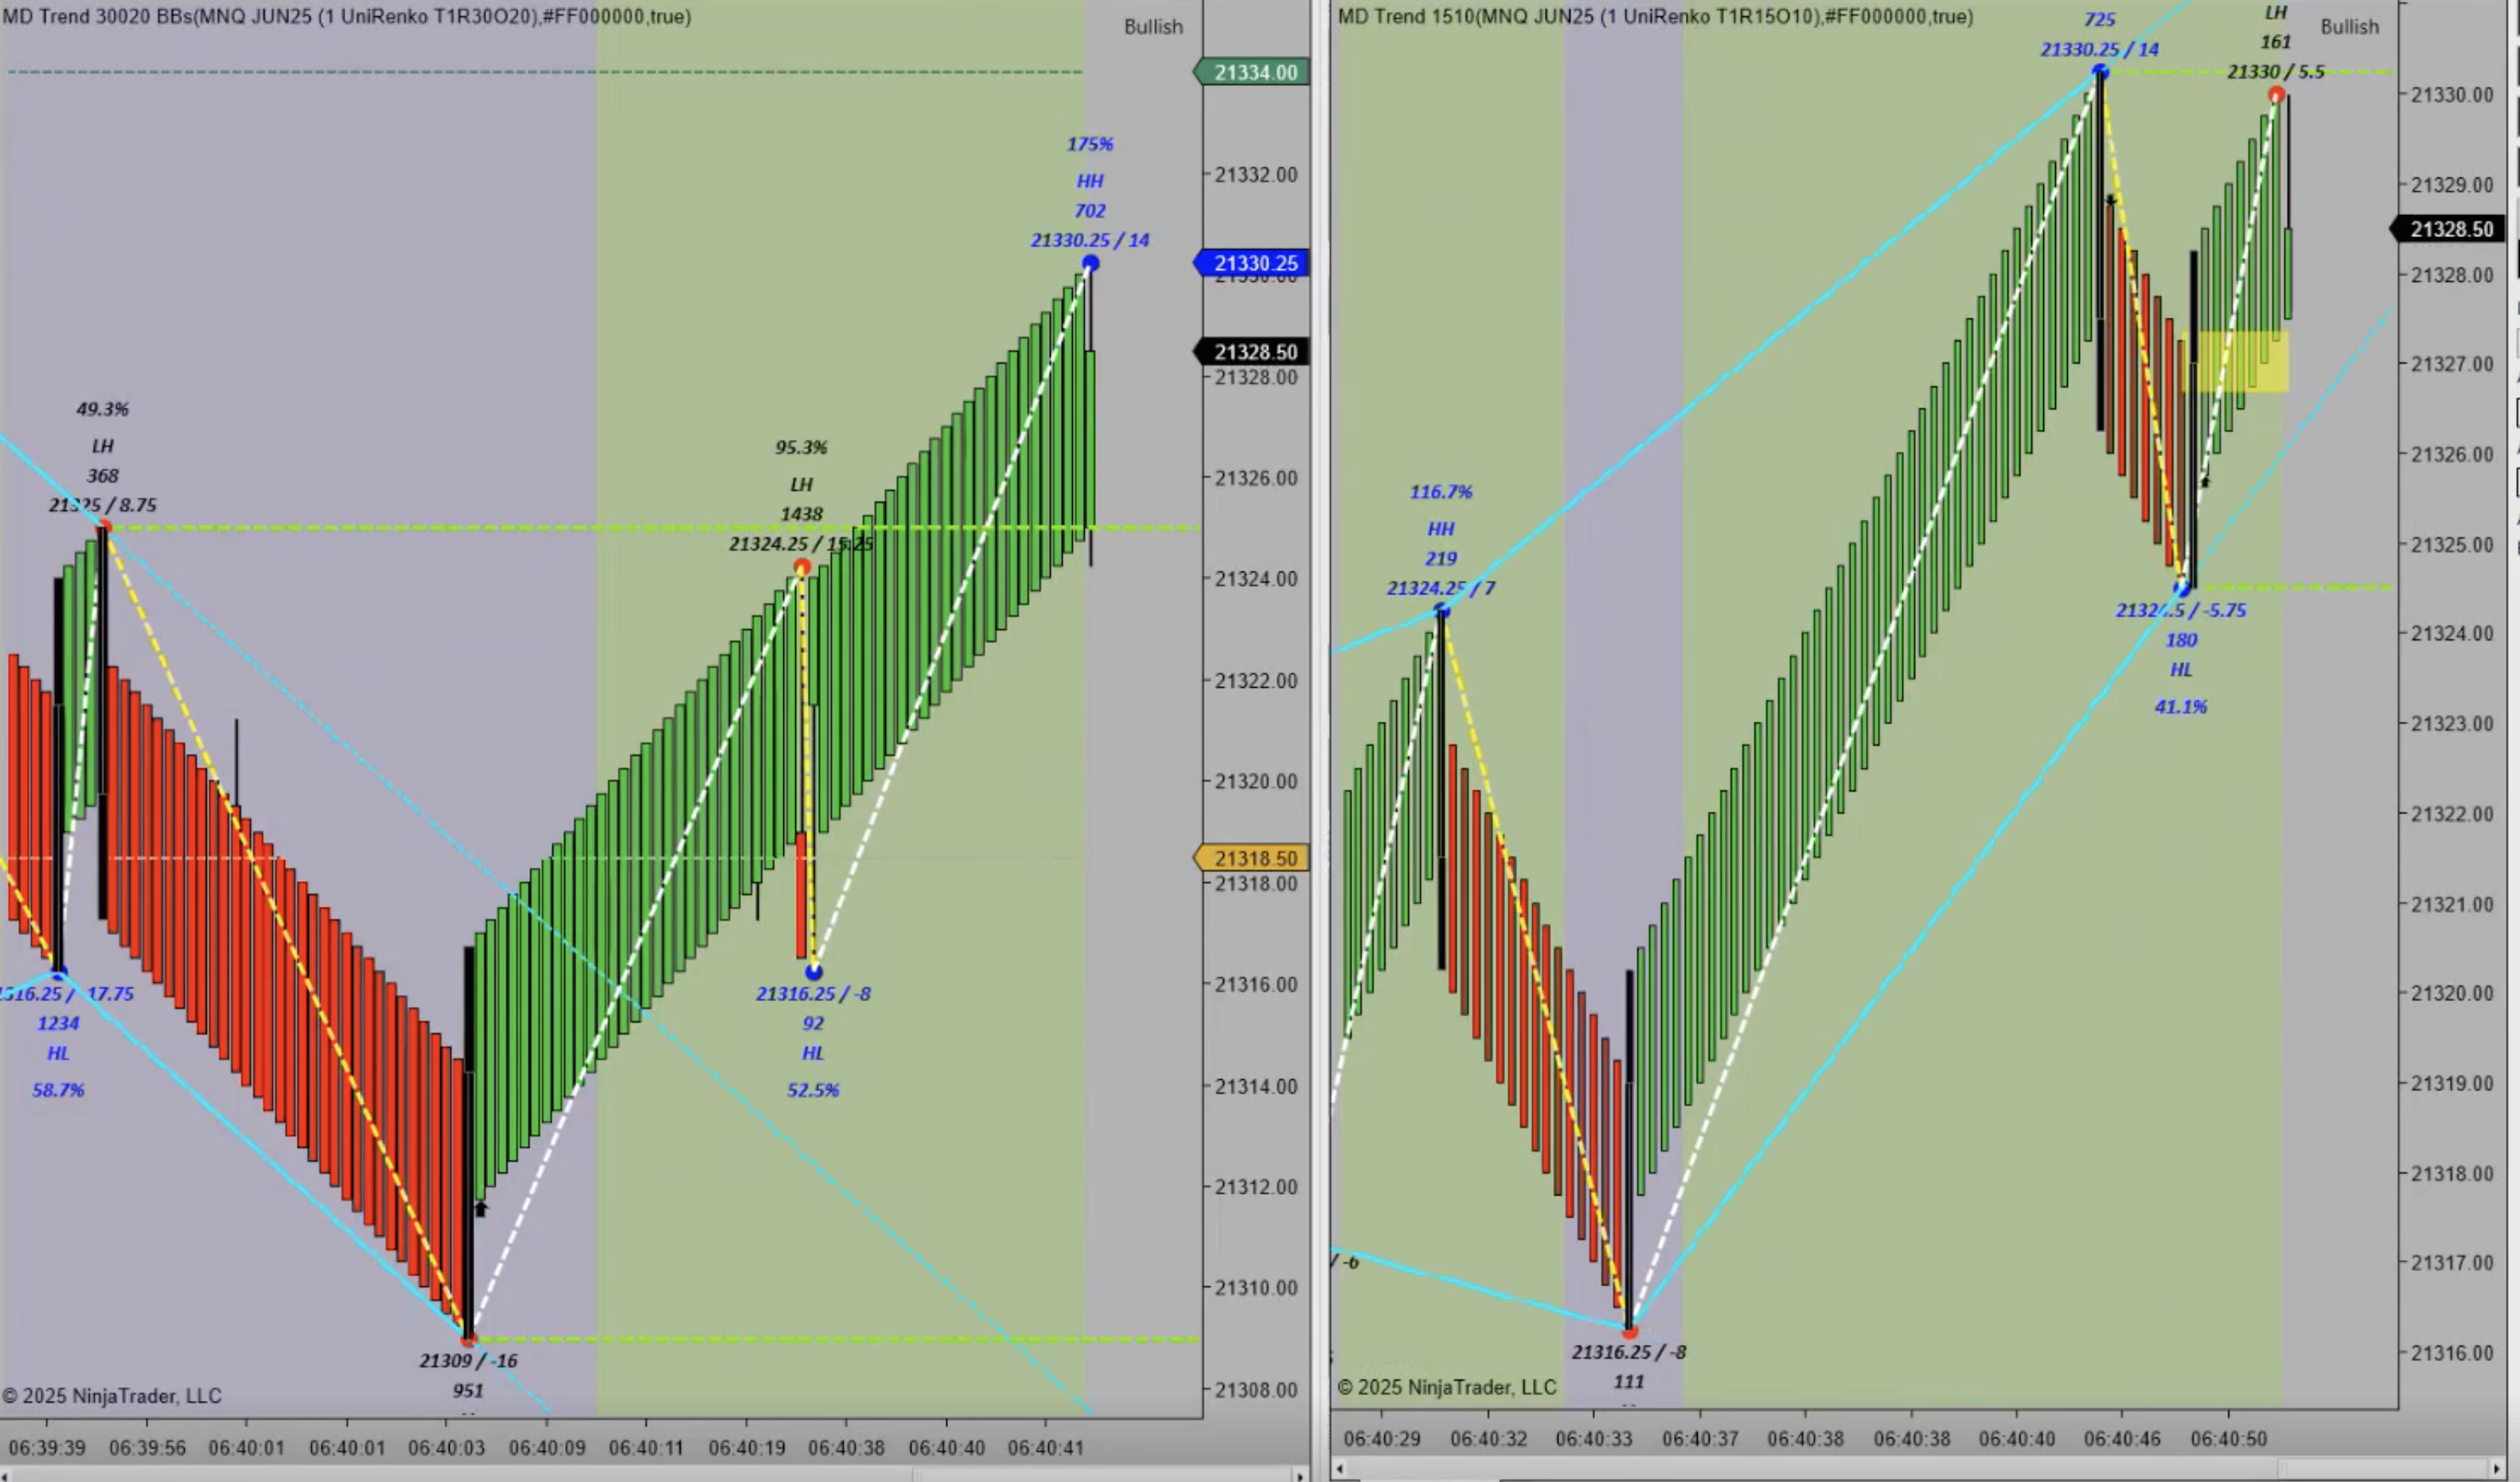candle: (93, 524, 120, 928), (459, 949, 485, 1339), (49, 572, 74, 967), (2185, 249, 2208, 589), (1432, 609, 1453, 974), (2093, 69, 2113, 441), (1626, 970, 1644, 1318)
